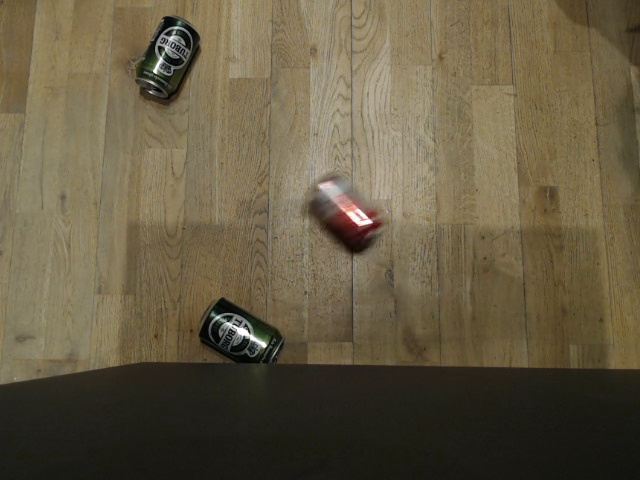beer: (193, 294, 286, 368), (133, 14, 204, 102)
cola: (308, 171, 385, 255)
